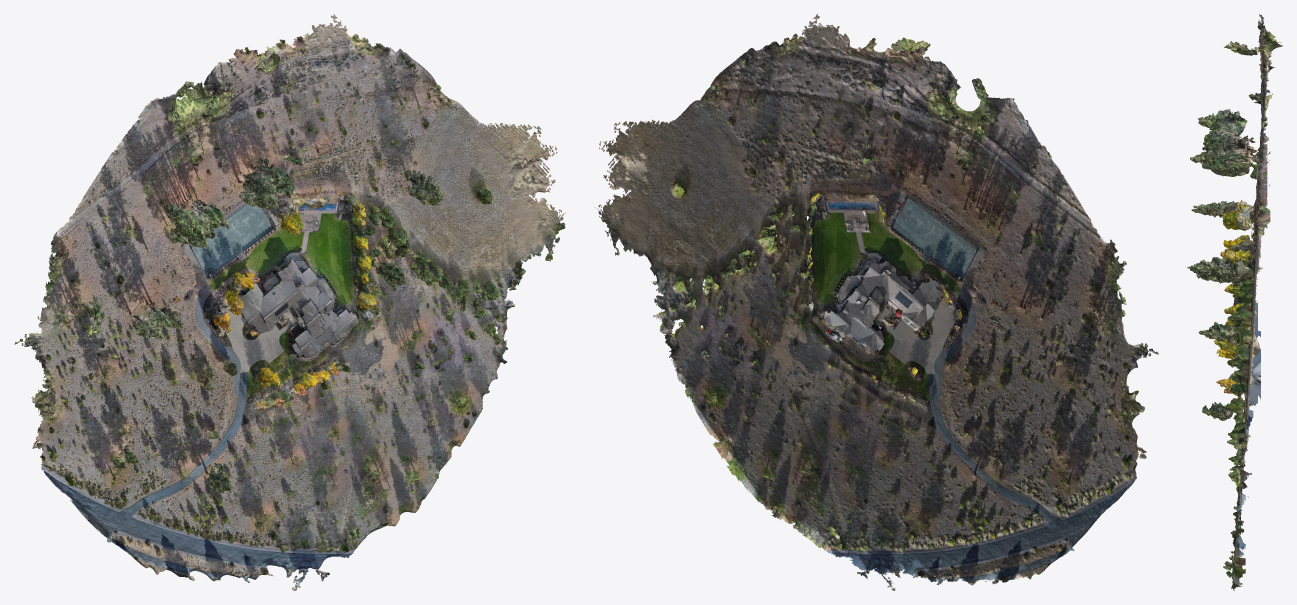
File: tracy.glb
3 views of the same model, side by side, from view 1: azimuth 30°, elevation 25°; view 2: azimuth 150°, elevation 25°; view 3: azimuth 270°, elevation 25° (orthographic). The views are drawn at different scales.
Parts seen in each view (by area): view 1: parcel-tracy; view 2: parcel-tracy; view 3: parcel-tracy.
Part boxes in pixels (box(x1,y1,x2,y2)): parcel-tracy: box(14, 14, 565, 590); parcel-tracy: box(594, 14, 1158, 590); parcel-tracy: box(1187, 14, 1282, 590).
Size of the model in its own units: 269 by 259 by 41.3.
Materials: 44 (44 with a texture image).
